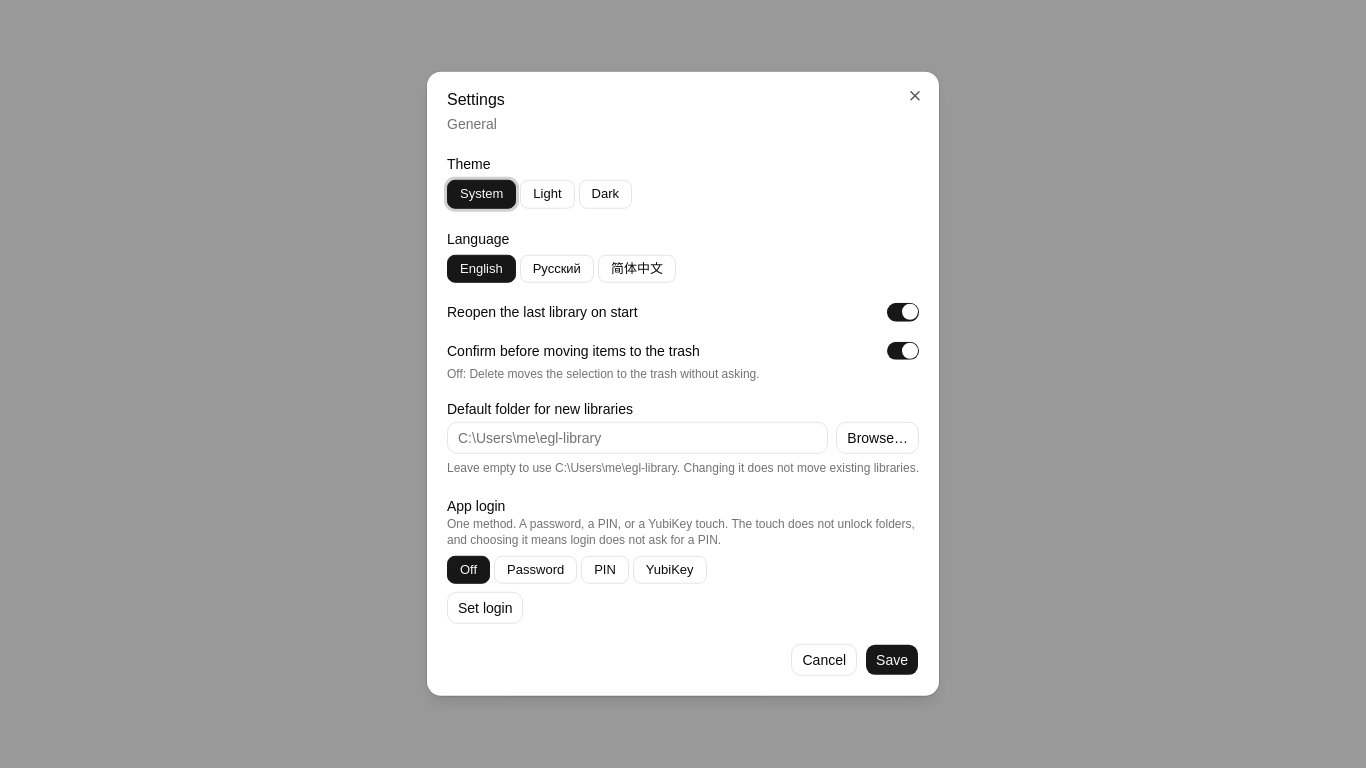
SettingsDialog › shows why a folder cannot be the default
Type "\\\\nas\\libs" into the field labelled "Default folder for new libraries".
click(638, 438); type("\\\\nas\\libs")  # box [447,422,828,454]
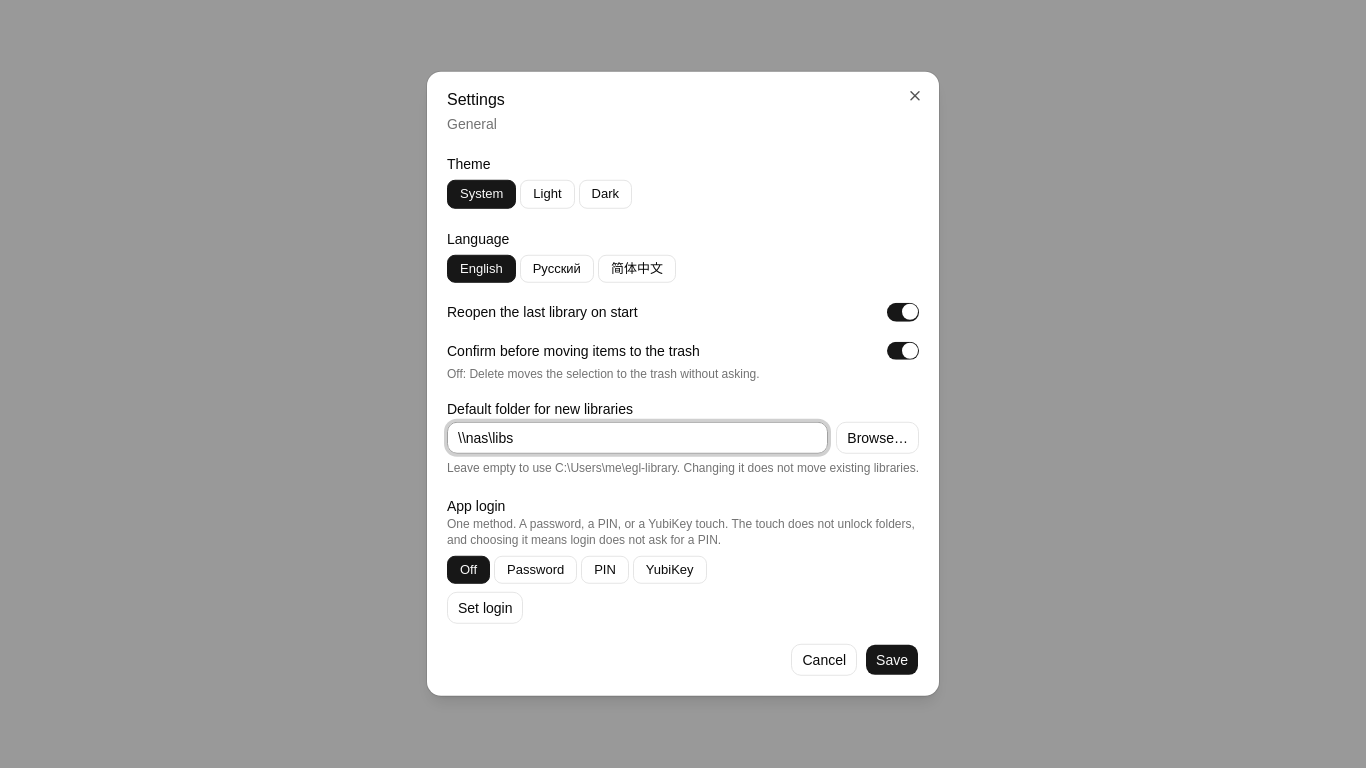
Click the button "Save".
click(892, 660)  # box [865,644,919,676]
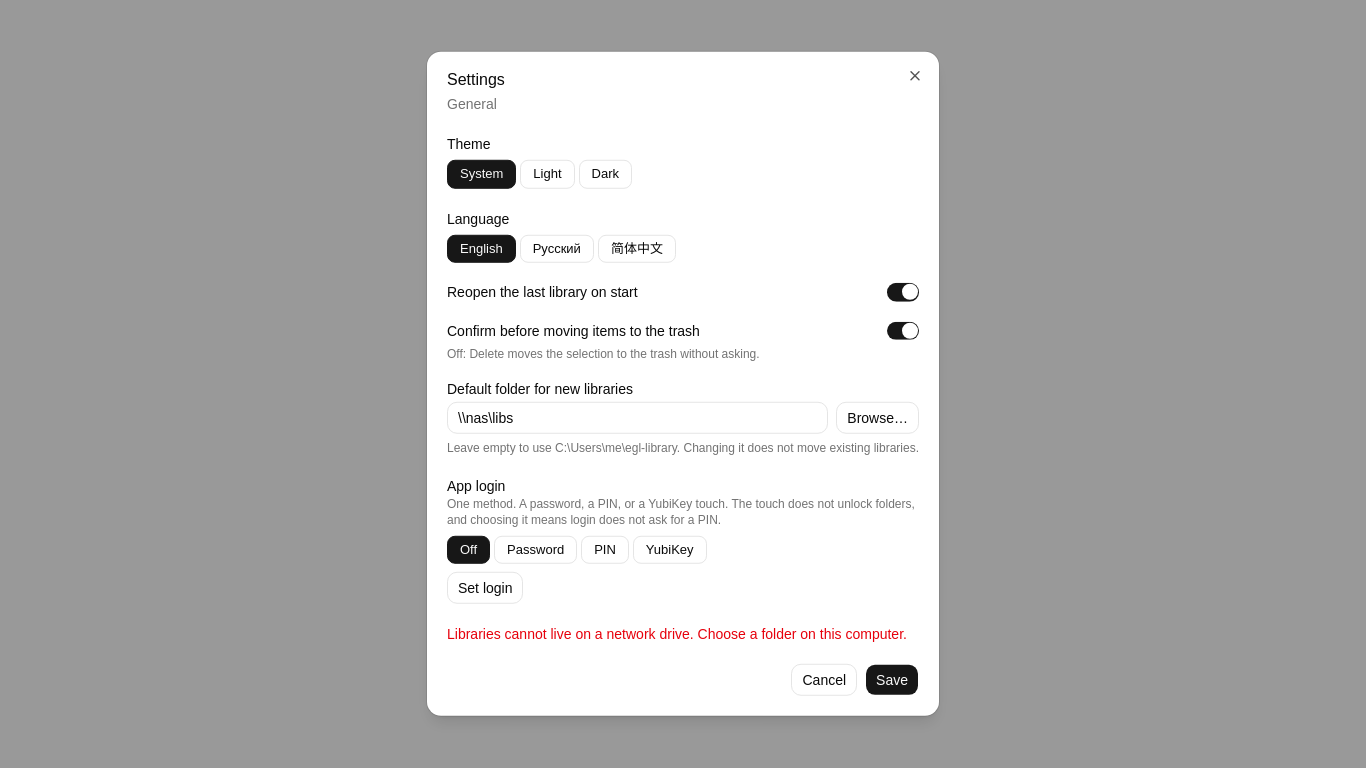
Expected: the message shows "network drive", [447,626,907,642]
